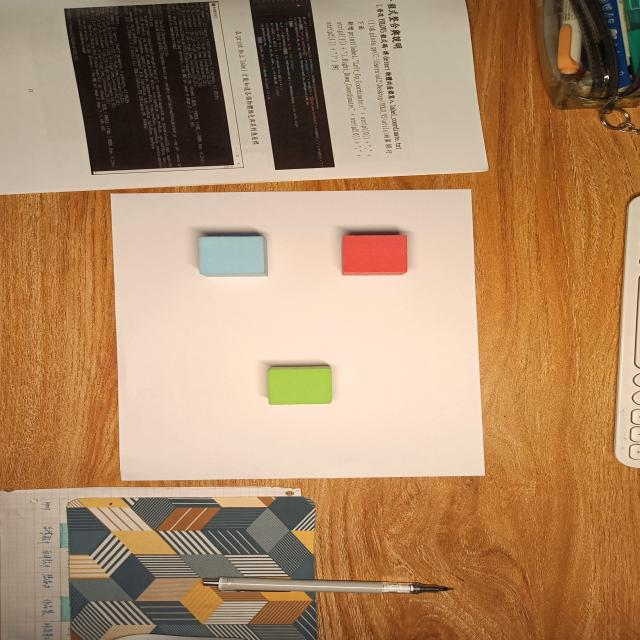BLUE: (197, 237, 269, 277)
GREEN: (268, 365, 333, 405)
RED: (342, 235, 407, 276)
